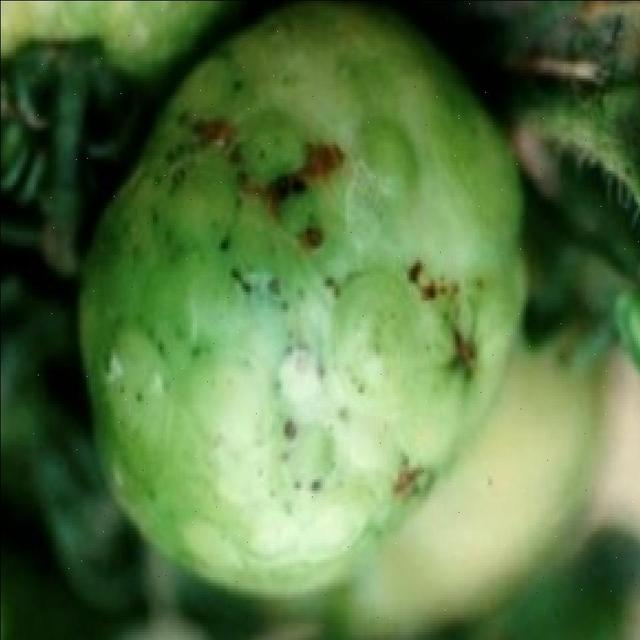Spotted wilt Virus Fruit: (93, 226, 410, 524)
